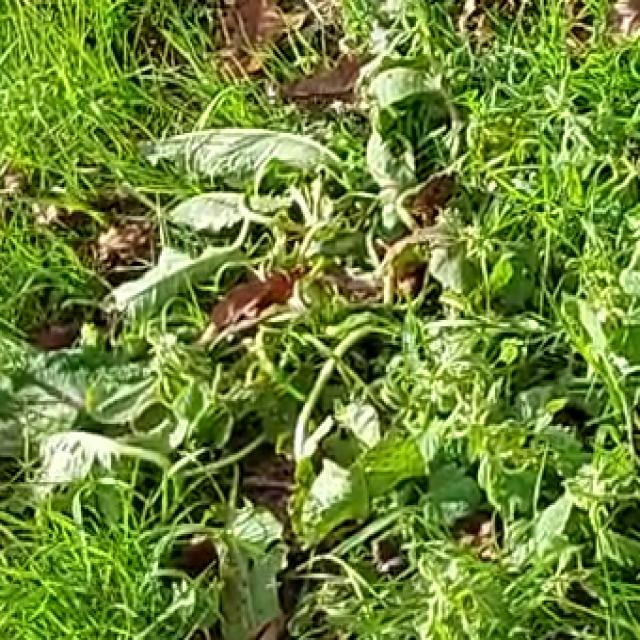organic waste: (134, 42, 544, 353), (24, 318, 356, 588)
